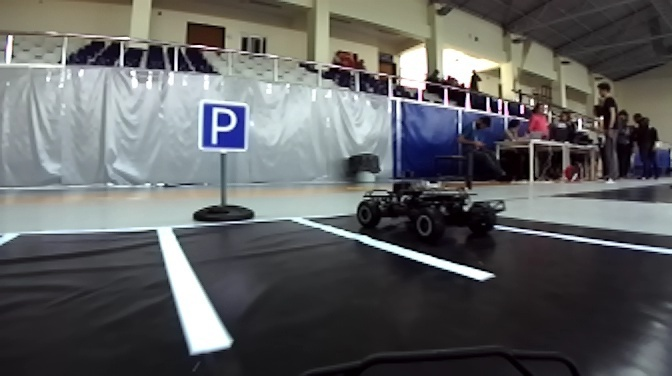park: (197, 97, 254, 156)
